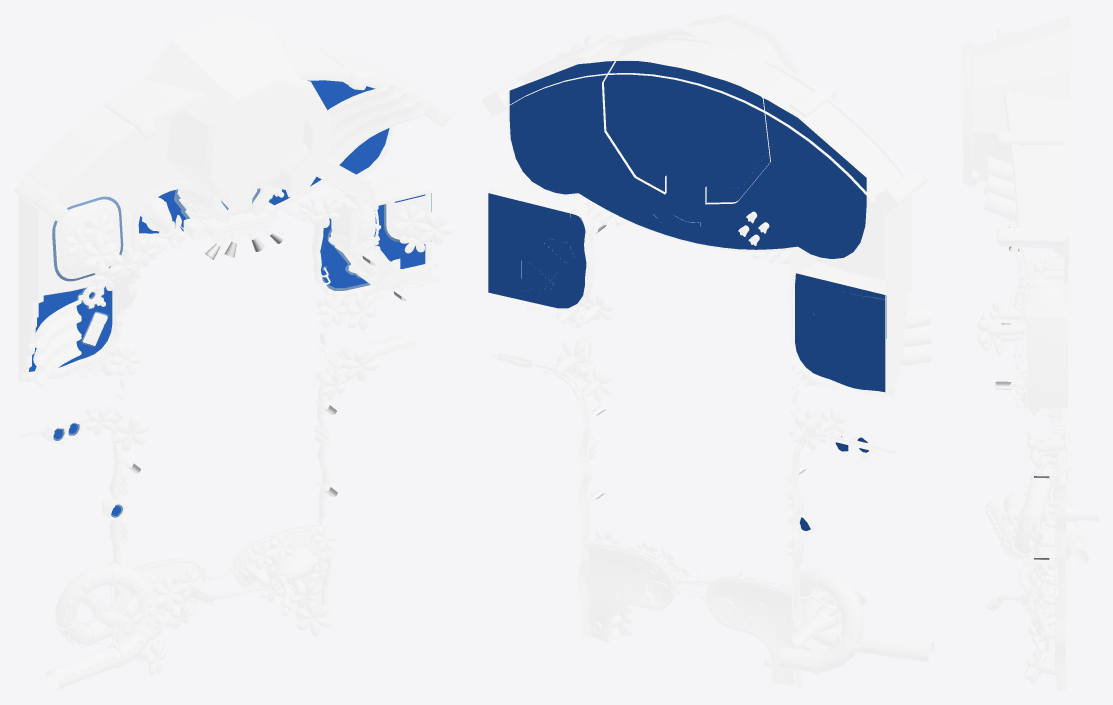
Rendered from bgr_waterpark.glb.
The picture shows the model from 3 angles, left to right: view 1: azimuth 30°, elevation 25°; view 2: azimuth 150°, elevation 25°; view 3: azimuth 270°, elevation 25°; orthographic projection. The views are drawn at different scales.
Visible parts, largest first — view 1: Cylinder.004, Arc.002, Cube, Cube.012, Spiral, Cylinder.158, Cube.065, Cube.021, pool_water_top, Cylinder.198, pool_water_top.001, Circle.022 (+25 smaller); view 2: pool_water_top, Arc.002, pool_water_top.002, Circle.022, pool_water_top.001, Cube, Spiral, Cylinder.004, Cube.012, Cube.021, Cube.037, Circle.035 (+8 smaller); view 3: Cylinder.004, Arc.002, Cube.024, Spiral, Cube.037, Cube.021, Cylinder.158, Cube.011, Cube.010, Cylinder.140, Cylinder.078, Cylinder.176 (+12 smaller).
Part boxes in pixels (x1,y1,x2,y2): Cylinder.004: (144,14,332,208); Arc.002: (23,44,430,201); Cube: (18,180,194,668); Cube.012: (43,118,184,295); Spiral: (45,562,157,690); Cylinder.158: (327,82,425,164); Cube.065: (52,196,123,281); Cube.021: (312,172,432,297); pool_water_top: (138,80,389,233); Cylinder.198: (33,300,81,386); pool_water_top.001: (29,286,112,371); Circle.022: (119,529,325,665); pool_water_top: (509,61,866,258); Arc.002: (490,35,907,202); pool_water_top.002: (488,193,586,308); Circle.022: (583,546,799,689); pool_water_top.001: (795,273,886,392); Cube: (738,187,912,690); Spiral: (778,567,934,674); Cylinder.004: (602,14,798,204); Cube.012: (794,196,906,299); Cube.021: (489,171,594,312); Cube.037: (490,350,591,638); Circle.035: (584,542,795,684); Cylinder.004: (963,14,1070,187); Arc.002: (1003,28,1071,236); Cube.024: (1027,319,1068,408); Spiral: (985,464,1088,568); Cube.037: (1055,449,1071,690); Cube.021: (1024,262,1067,425); Cylinder.158: (984,155,1064,254); Cube.011: (997,224,1065,249); Cube.010: (997,128,1065,152); Cylinder.140: (977,310,1024,350); Cylinder.078: (1027,428,1066,468); Cylinder.176: (1024,649,1055,683).
Size of the model in its own units: 45.36 by 65.67 by 12.98.
